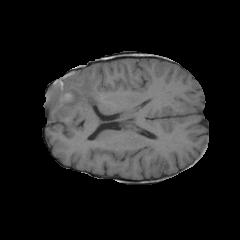glioma: (43, 70, 109, 127)
